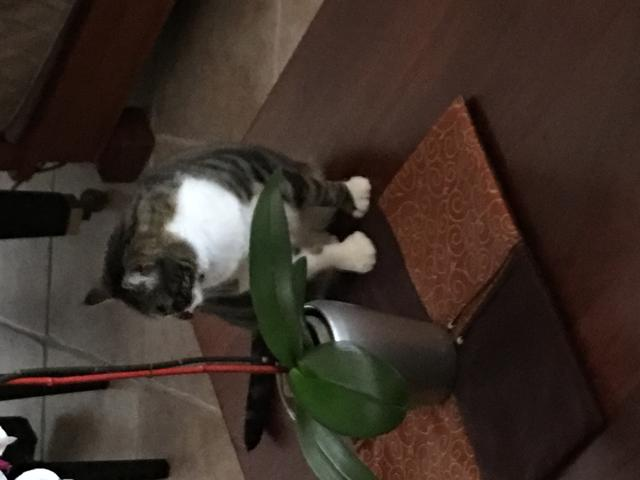playdoh: (78, 146, 377, 323)
